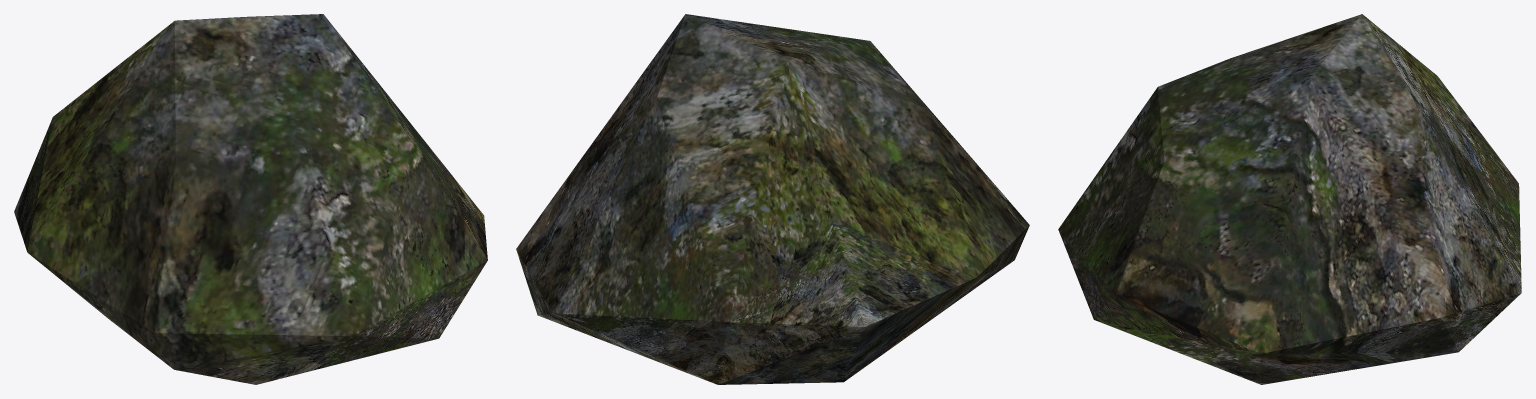
The model's file is rock_rough_mossy_coverstone_d.fbx.
3 renders of one model, left to right at view 1: azimuth 30°, elevation 25°; view 2: azimuth 150°, elevation 25°; view 3: azimuth 270°, elevation 25°, orthographic. The views are drawn at different scales.
Visible parts, largest first — view 1: Cube; view 2: Cube; view 3: Cube.
Boxes of the visible parts, left/top/right/bottom form: Cube: left=14, top=14, right=487, bottom=384; Cube: left=516, top=14, right=1029, bottom=384; Cube: left=1058, top=14, right=1521, bottom=384.
Bounding box in the file's own units: 35.83 × 23.34 × 34.65.
